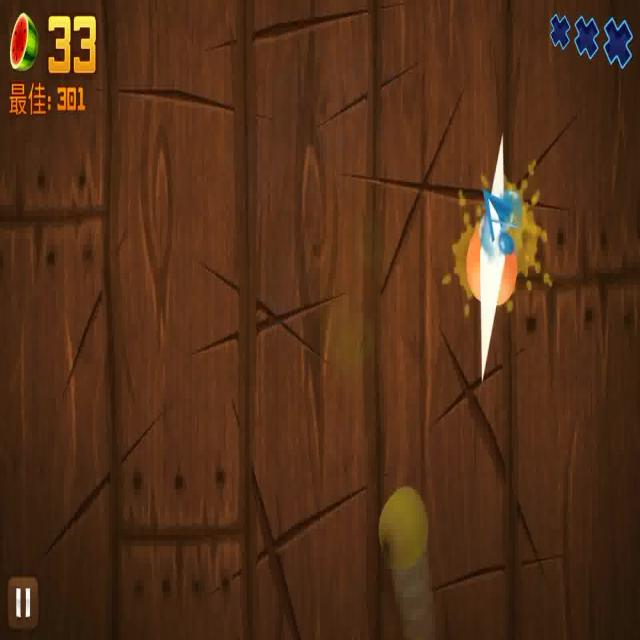fruit: (378, 487, 427, 570), (465, 230, 517, 296)
